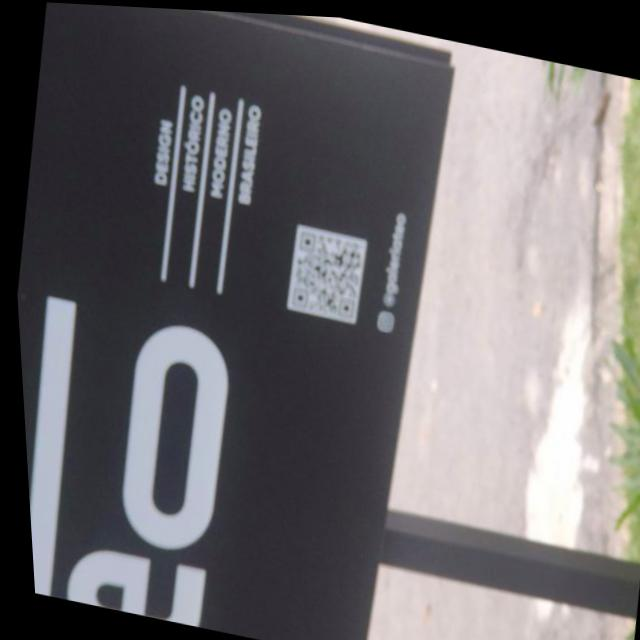qrcode: (285, 227, 364, 316)
